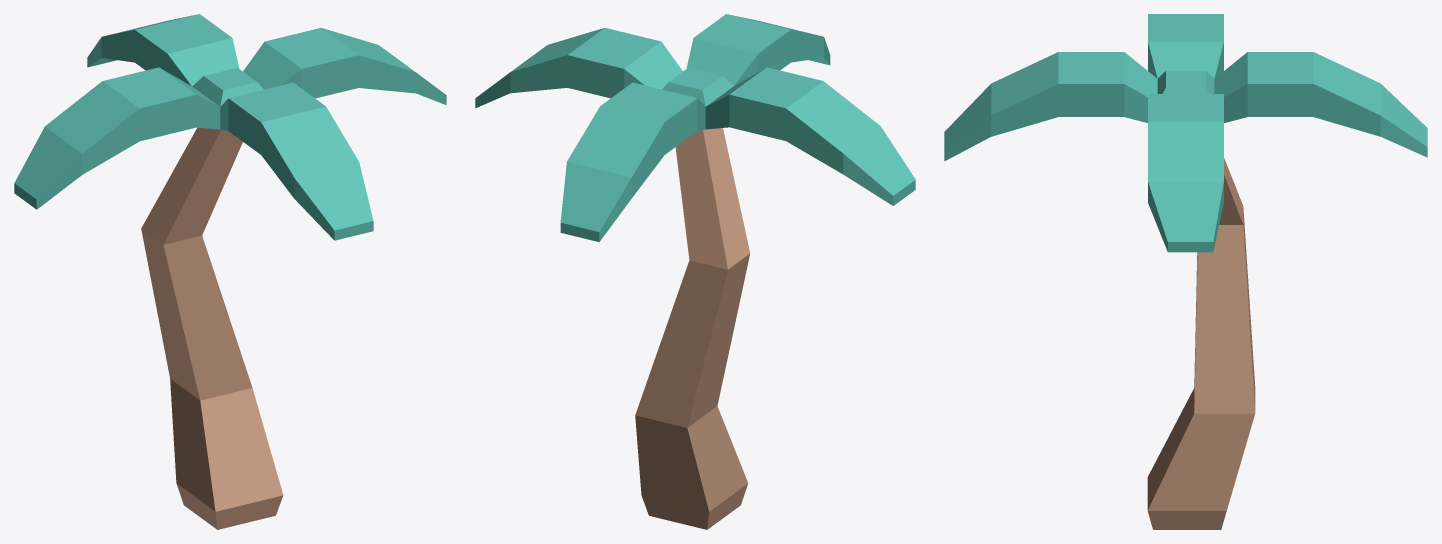
Rendered from palm_short.glb.
3 renders of one model, left to right at view 1: azimuth 30°, elevation 25°; view 2: azimuth 150°, elevation 25°; view 3: azimuth 270°, elevation 25°, orthographic.
Parts seen in each view (by area): view 1: palm_short; view 2: palm_short; view 3: palm_short.
Part boxes in pixels (bbox=[...]): palm_short: bbox=[14, 14, 446, 529]; palm_short: bbox=[475, 14, 915, 529]; palm_short: bbox=[944, 14, 1427, 529].
Bounding box in the file's own units: 1.03 × 1.06 × 1.03.
